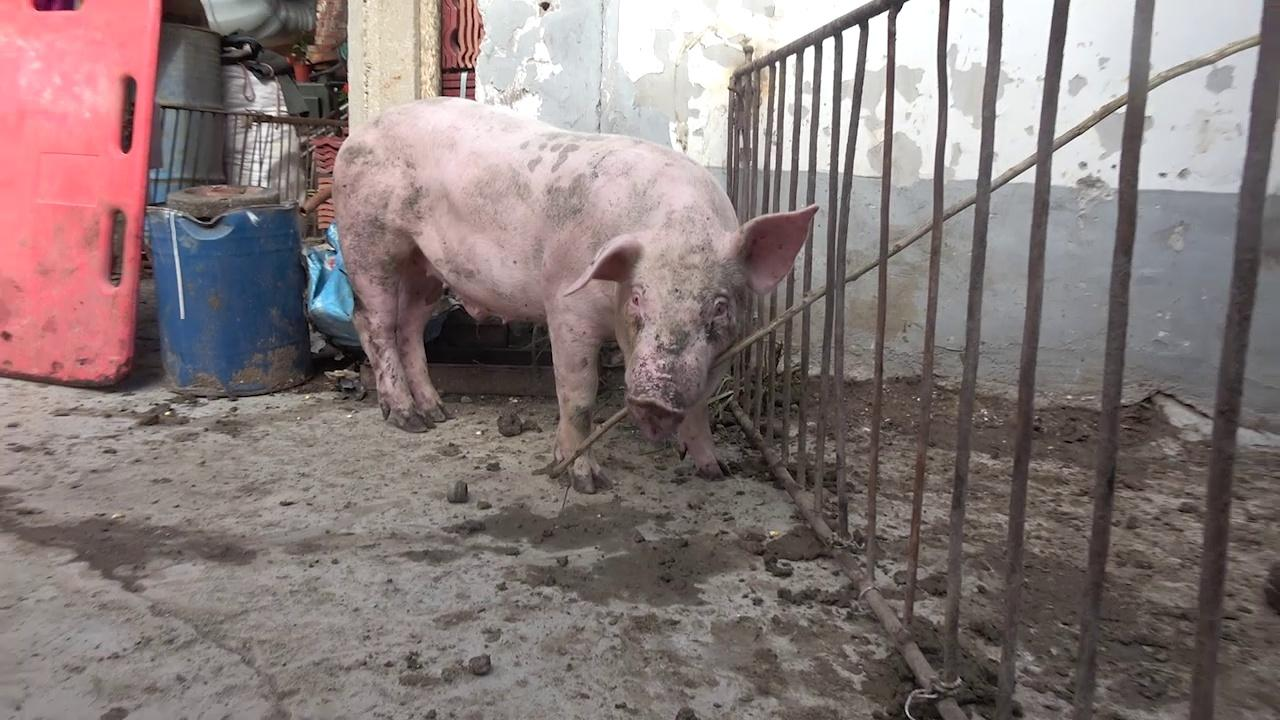Face: (563, 196, 825, 433)
